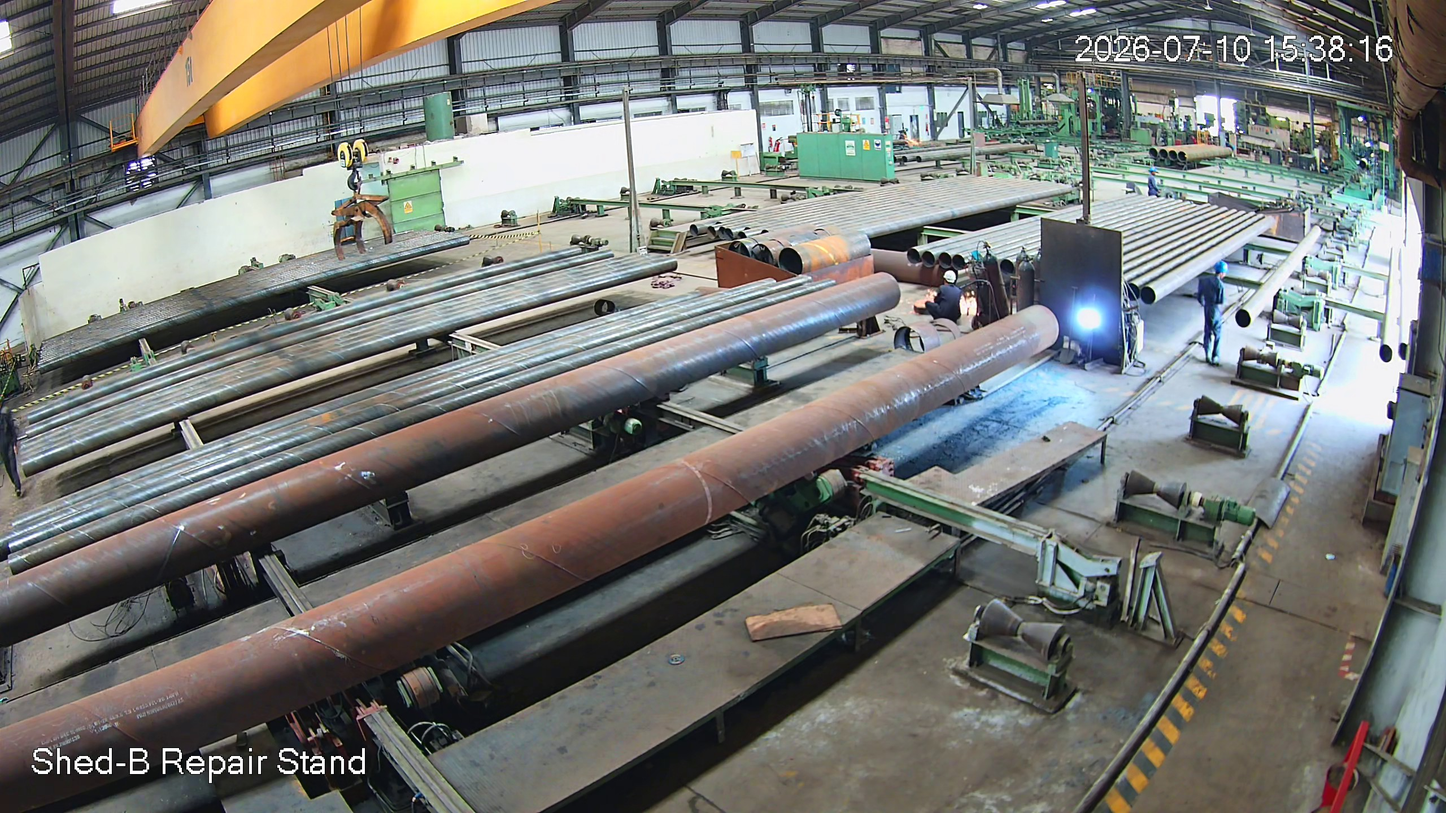Helmet: (939, 267, 963, 299), (1212, 254, 1231, 286)
Person: (1197, 258, 1232, 376), (930, 269, 961, 326)
